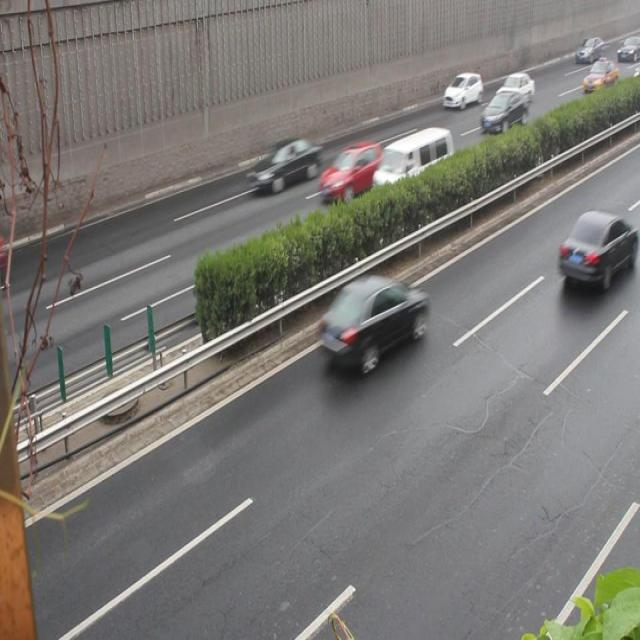car: (316, 275, 425, 370), (556, 206, 630, 281), (246, 136, 317, 192), (316, 140, 381, 200), (477, 88, 521, 132), (440, 70, 480, 108), (493, 70, 531, 104)
